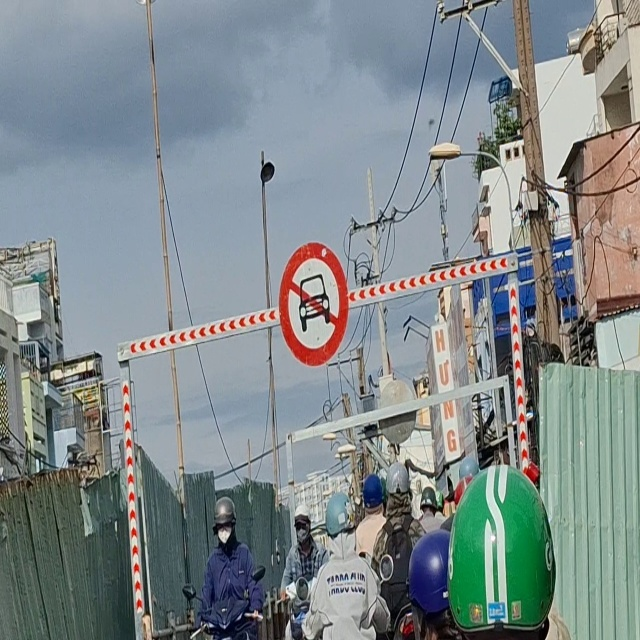cam oto: (266, 240, 361, 367)
